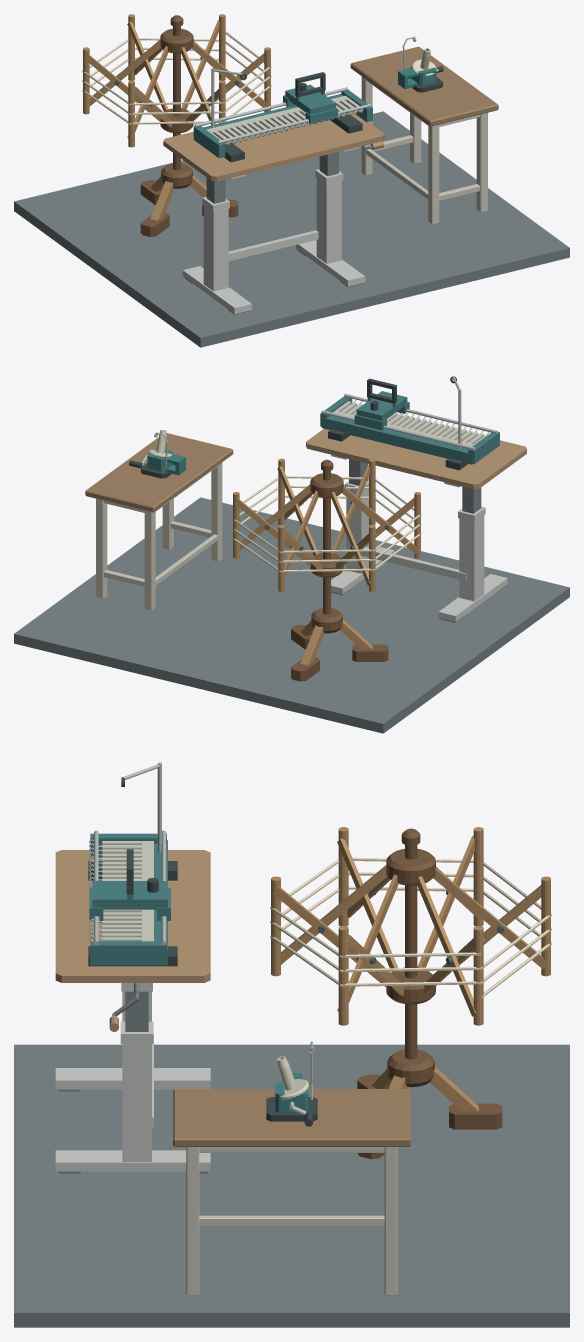
3 views of the same model, one above another, from view 1: azimuth 30°, elevation 25°; view 2: azimuth 150°, elevation 25°; view 3: azimuth 270°, elevation 25° (orthographic). The views are drawn at different scales.
Visible parts, largest first — view 1: SceneOnlyKnittingPreparationFloor, desk__WholeLevelWritingTop, table__Complete work surface, swift__OneContinuousThreeCircuitYarnStrand, desk__WholeOpenUpperOuterColumn_-1, desk__WholeOpenUpperOuterColumn_1, knitter__WholeContinuousFrontNotchedNeedleBed, table__Worktable leg.001, table__Worktable leg, desk__WholeLongTGroundFoot_-1, desk__WholeLongTGroundFoot_1, desk__WholeLowerRearCrossTie (+23 smaller); view 2: SceneOnlyKnittingPreparationFloor, table__Complete work surface, desk__WholeLevelWritingTop, swift__OneContinuousThreeCircuitYarnStrand, knitter__WholeLongRearBedHousing, desk__WholeOpenUpperOuterColumn_-1, knitter__WholeContinuousFrontNotchedNeedleBed, table__Worktable leg.003, table__Worktable leg.002, table__Worktable leg.001, desk__WholeLongTGroundFoot_-1, swift__WholeVerticalMast (+20 smaller); view 3: SceneOnlyKnittingPreparationFloor, table__Complete work surface, desk__WholeLevelWritingTop, swift__OneContinuousThreeCircuitYarnStrand, knitter__WholeContinuousFrontNotchedNeedleBed, desk__WholeOpenUpperOuterColumn_1, desk__WholeLongTGroundFoot_1, desk__WholeLongTGroundFoot_-1, swift__WholeVerticalMast, table__Rear lower brace, table__Worktable leg, table__Worktable leg.002 (+24 smaller).
Part boxes in pixels (bbox=[...]): SceneOnlyKnittingPreparationFloor: bbox=[14, 111, 569, 347]; desk__WholeLevelWritingTop: bbox=[163, 112, 384, 181]; table__Complete work surface: bbox=[350, 46, 498, 126]; swift__OneContinuousThreeCircuitYarnStrand: bbox=[82, 31, 271, 124]; desk__WholeOpenUpperOuterColumn_-1: bbox=[203, 206, 228, 291]; desk__WholeOpenUpperOuterColumn_1: bbox=[316, 178, 341, 263]; knitter__WholeContinuousFrontNotchedNeedleBed: bbox=[206, 95, 362, 143]; table__Worktable leg.001: bbox=[428, 124, 439, 224]; table__Worktable leg: bbox=[476, 112, 487, 212]; desk__WholeLongTGroundFoot_-1: bbox=[182, 266, 251, 313]; desk__WholeLongTGroundFoot_1: bbox=[296, 240, 365, 286]; desk__WholeLowerRearCrossTie: bbox=[228, 230, 318, 261]; SceneOnlyKnittingPreparationFloor: bbox=[14, 497, 569, 733]; table__Complete work surface: bbox=[85, 433, 233, 512]; desk__WholeLevelWritingTop: bbox=[306, 428, 526, 489]; swift__OneContinuousThreeCircuitYarnStrand: bbox=[232, 476, 421, 572]; knitter__WholeLongRearBedHousing: bbox=[322, 415, 472, 464]; desk__WholeOpenUpperOuterColumn_-1: bbox=[459, 515, 484, 601]; knitter__WholeContinuousFrontNotchedNeedleBed: bbox=[333, 401, 487, 446]; table__Worktable leg.003: bbox=[144, 510, 155, 610]; table__Worktable leg.002: bbox=[96, 498, 107, 598]; table__Worktable leg.001: bbox=[211, 462, 222, 561]; desk__WholeLongTGroundFoot_-1: bbox=[438, 574, 507, 621]; swift__WholeVerticalMast: bbox=[321, 459, 333, 614]; SceneOnlyKnittingPreparationFloor: bbox=[14, 1044, 569, 1327]; table__Complete work surface: bbox=[173, 1089, 410, 1146]; desk__WholeLevelWritingTop: bbox=[55, 850, 210, 982]; swift__OneContinuousThreeCircuitYarnStrand: bbox=[270, 857, 551, 998]; knitter__WholeContinuousFrontNotchedNeedleBed: bbox=[102, 841, 153, 941]; desk__WholeOpenUpperOuterColumn_1: bbox=[122, 1044, 151, 1161]; desk__WholeLongTGroundFoot_1: bbox=[55, 1150, 210, 1171]; desk__WholeLongTGroundFoot_-1: bbox=[55, 1068, 210, 1089]; swift__WholeVerticalMast: bbox=[401, 828, 420, 1059]; table__Rear lower brace: bbox=[199, 1215, 384, 1226]; table__Worktable leg: bbox=[186, 1147, 199, 1295]; table__Worktable leg.002: bbox=[384, 1147, 397, 1295].
Bounding box in the file's own units: 3.2 × 1.89 × 2.8.
